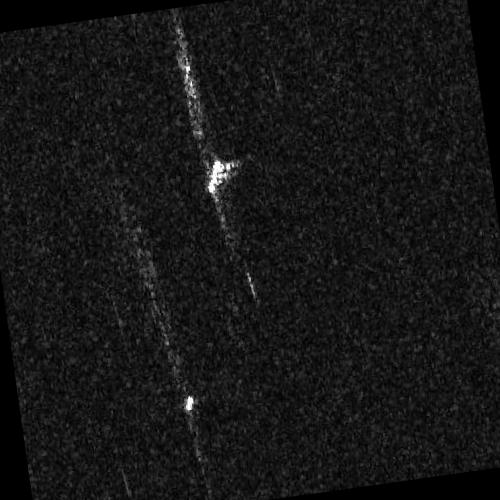ship: (205, 157, 225, 196)
